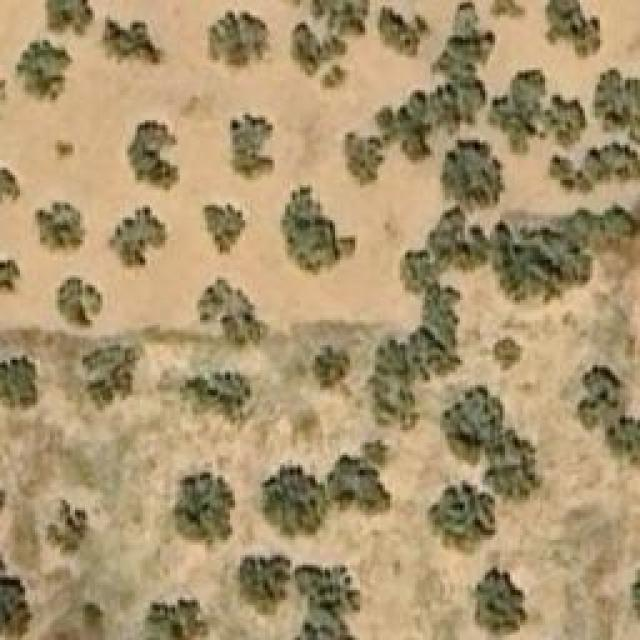Tree: (370, 325, 453, 425), (493, 220, 588, 300), (278, 185, 358, 278), (488, 67, 583, 145), (428, 480, 498, 558), (292, 555, 360, 635), (260, 463, 328, 538), (443, 385, 506, 463), (193, 280, 263, 348), (173, 473, 236, 546), (328, 452, 391, 520), (110, 205, 168, 278), (440, 140, 500, 210), (485, 430, 540, 498), (15, 40, 73, 103), (95, 15, 168, 65), (128, 120, 178, 193), (83, 345, 138, 410), (180, 373, 250, 423), (545, 0, 603, 60), (235, 553, 290, 616), (473, 568, 526, 633), (210, 10, 268, 68), (30, 200, 88, 258), (230, 113, 278, 183), (285, 23, 345, 78), (570, 145, 640, 190), (577, 363, 625, 428), (598, 65, 638, 138), (144, 597, 207, 640), (0, 358, 50, 411), (58, 278, 103, 331), (43, 0, 98, 40), (203, 205, 246, 255), (375, 8, 425, 51), (48, 500, 88, 553), (312, 345, 350, 390), (345, 132, 378, 180), (397, 248, 435, 288), (607, 417, 640, 460), (493, 335, 523, 373), (318, 65, 348, 95), (0, 168, 20, 203), (0, 260, 20, 295), (488, 0, 523, 18)
